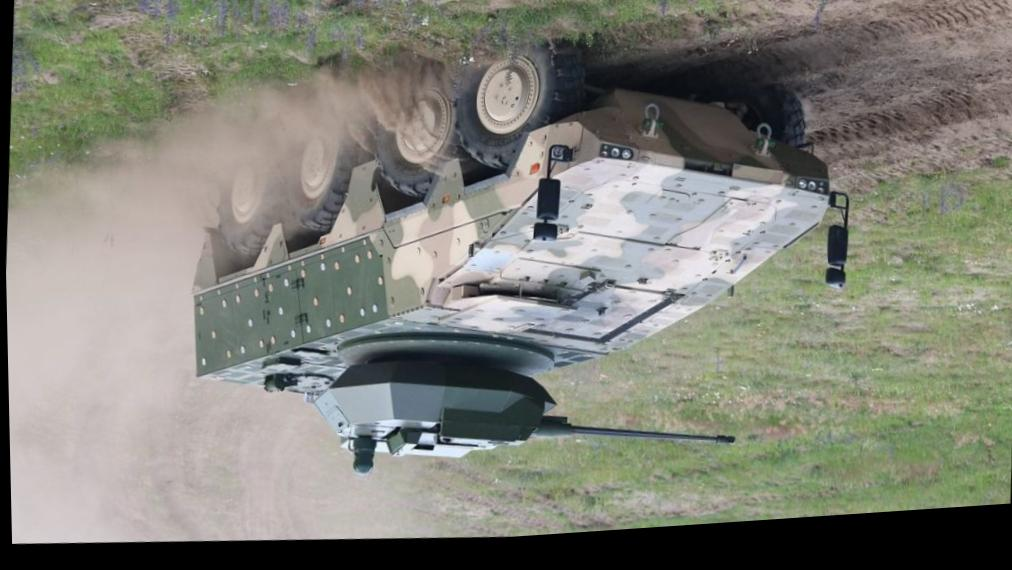armored_car: (178, 0, 864, 512)
